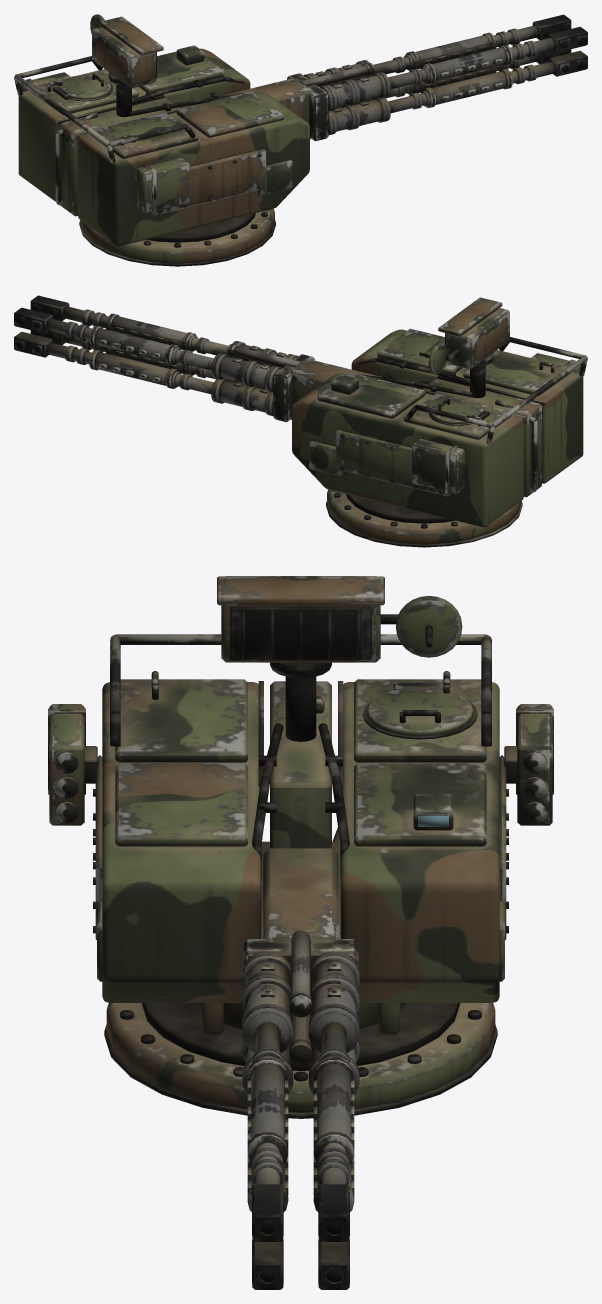
The model's file is turret_kit_quad_forest.glb.
The picture shows the model from 3 angles, top to bottom: view 1: azimuth 30°, elevation 25°; view 2: azimuth 150°, elevation 25°; view 3: azimuth 270°, elevation 25°; orthographic projection. The views are drawn at different scales.
Visible parts, largest first — view 1: turret_twin_quad, guns, pods; view 2: turret_twin_quad, guns, pods; view 3: turret_twin_quad, guns, pods.
Part boxes in pixels (x1,y1,x2,y2): turret_twin_quad: (14,14,309,266); guns: (220,14,587,141); pods: (20,72,190,213); turret_twin_quad: (292,297,587,547); guns: (14,295,382,422); pods: (411,353,581,494); turret_twin_quad: (93,576,508,1118); guns: (242,848,359,1289); pods: (48,704,553,825).
Bounding box in the file's own units: 2.7 × 1.01 × 1.15.
4 materials, 3 textured.
